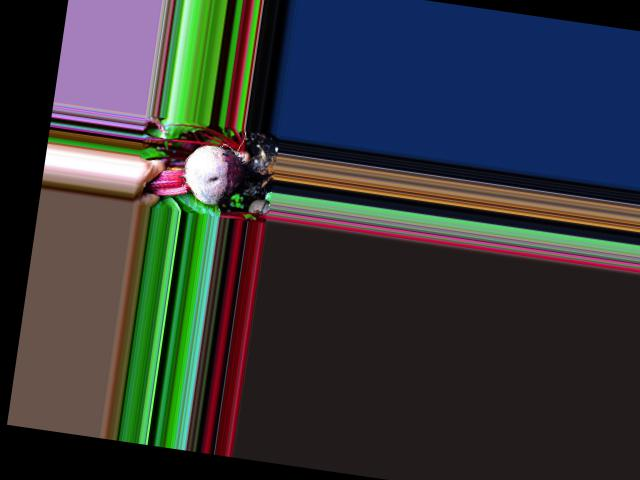beet: (142, 136, 277, 212)
